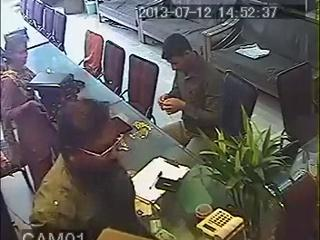Normal: (29, 97, 150, 239), (0, 42, 59, 191), (157, 34, 225, 146)
